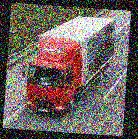truck: (19, 12, 116, 118)
